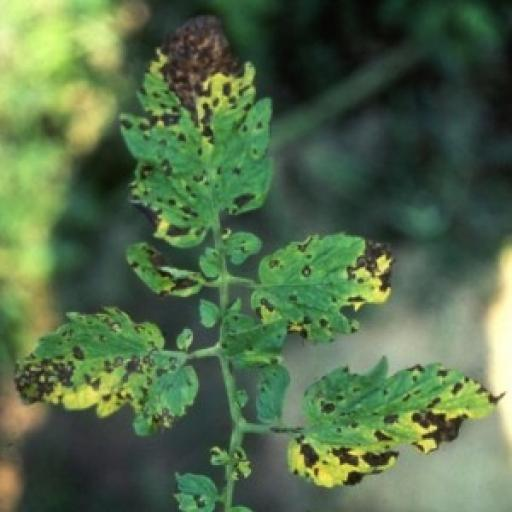disease_tomato: (118, 17, 290, 243), (276, 354, 510, 492), (4, 300, 202, 444), (251, 226, 399, 348), (118, 240, 205, 309)
